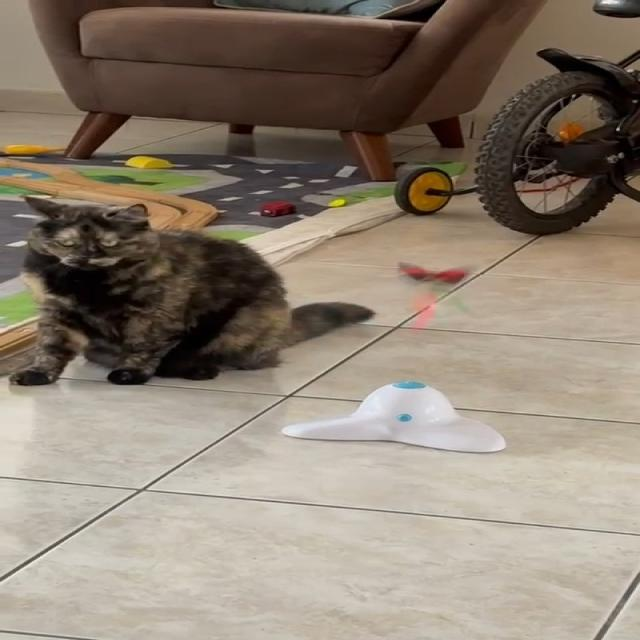authorized: (9, 196, 376, 387)
